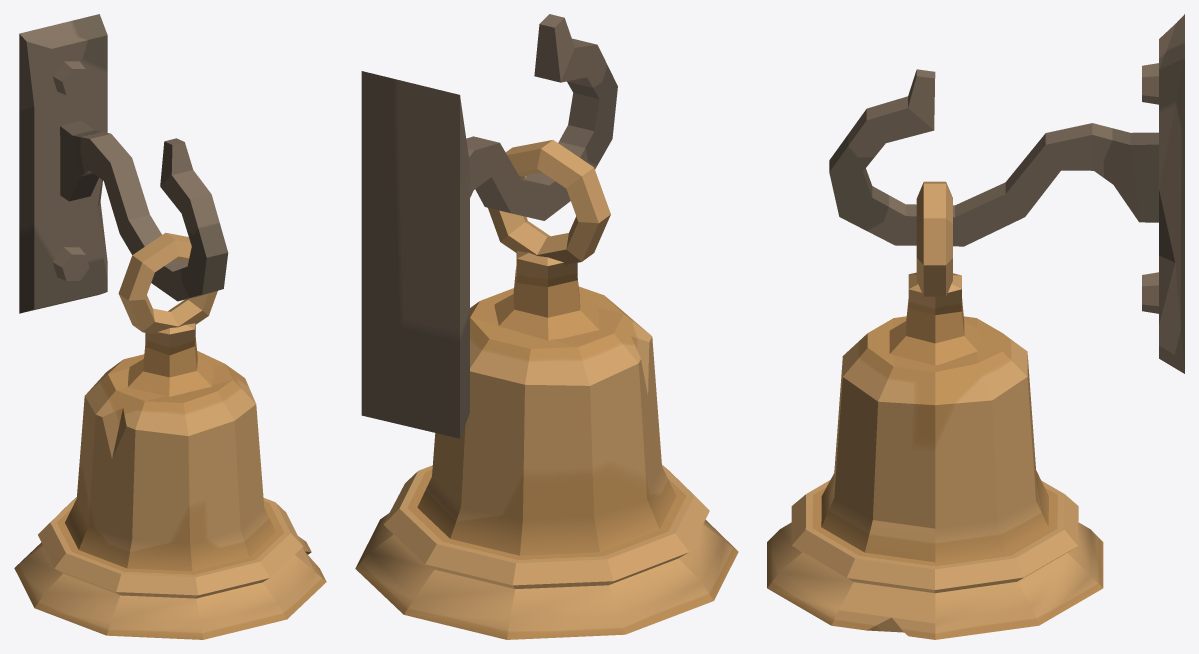
The model's file is SM_Prop_Bell_02.fbx.
3 views of the same model, side by side, from view 1: azimuth 30°, elevation 25°; view 2: azimuth 150°, elevation 25°; view 3: azimuth 270°, elevation 25° (orthographic). The views are drawn at different scales.
Visible parts, largest first — view 1: SM_Prop_Bell_02; view 2: SM_Prop_Bell_02; view 3: SM_Prop_Bell_02.
Part boxes in pixels (bbox=[...]): SM_Prop_Bell_02: bbox=[14, 14, 326, 639]; SM_Prop_Bell_02: bbox=[355, 14, 738, 639]; SM_Prop_Bell_02: bbox=[767, 14, 1184, 639].
Bounding box in the file's own units: 42.47 × 75.39 × 50.19.
